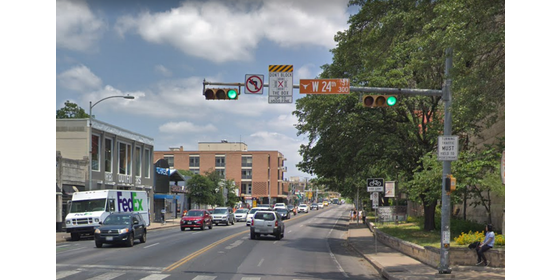dont block the box sign: (267, 62, 295, 104)
no left turn sign: (243, 73, 265, 95)
turning vehicle yield to ped sign: (438, 132, 459, 162)
